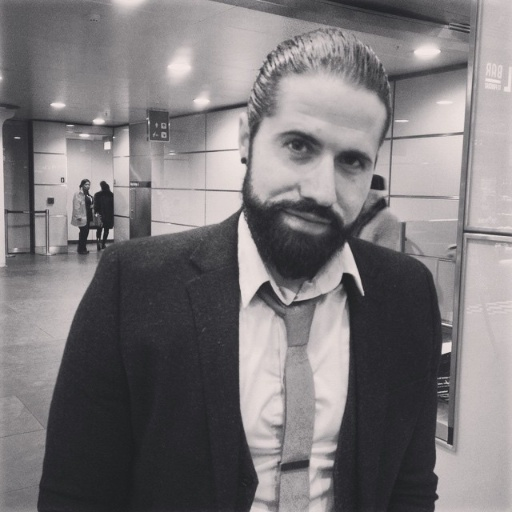hand: (75, 216, 83, 222)
